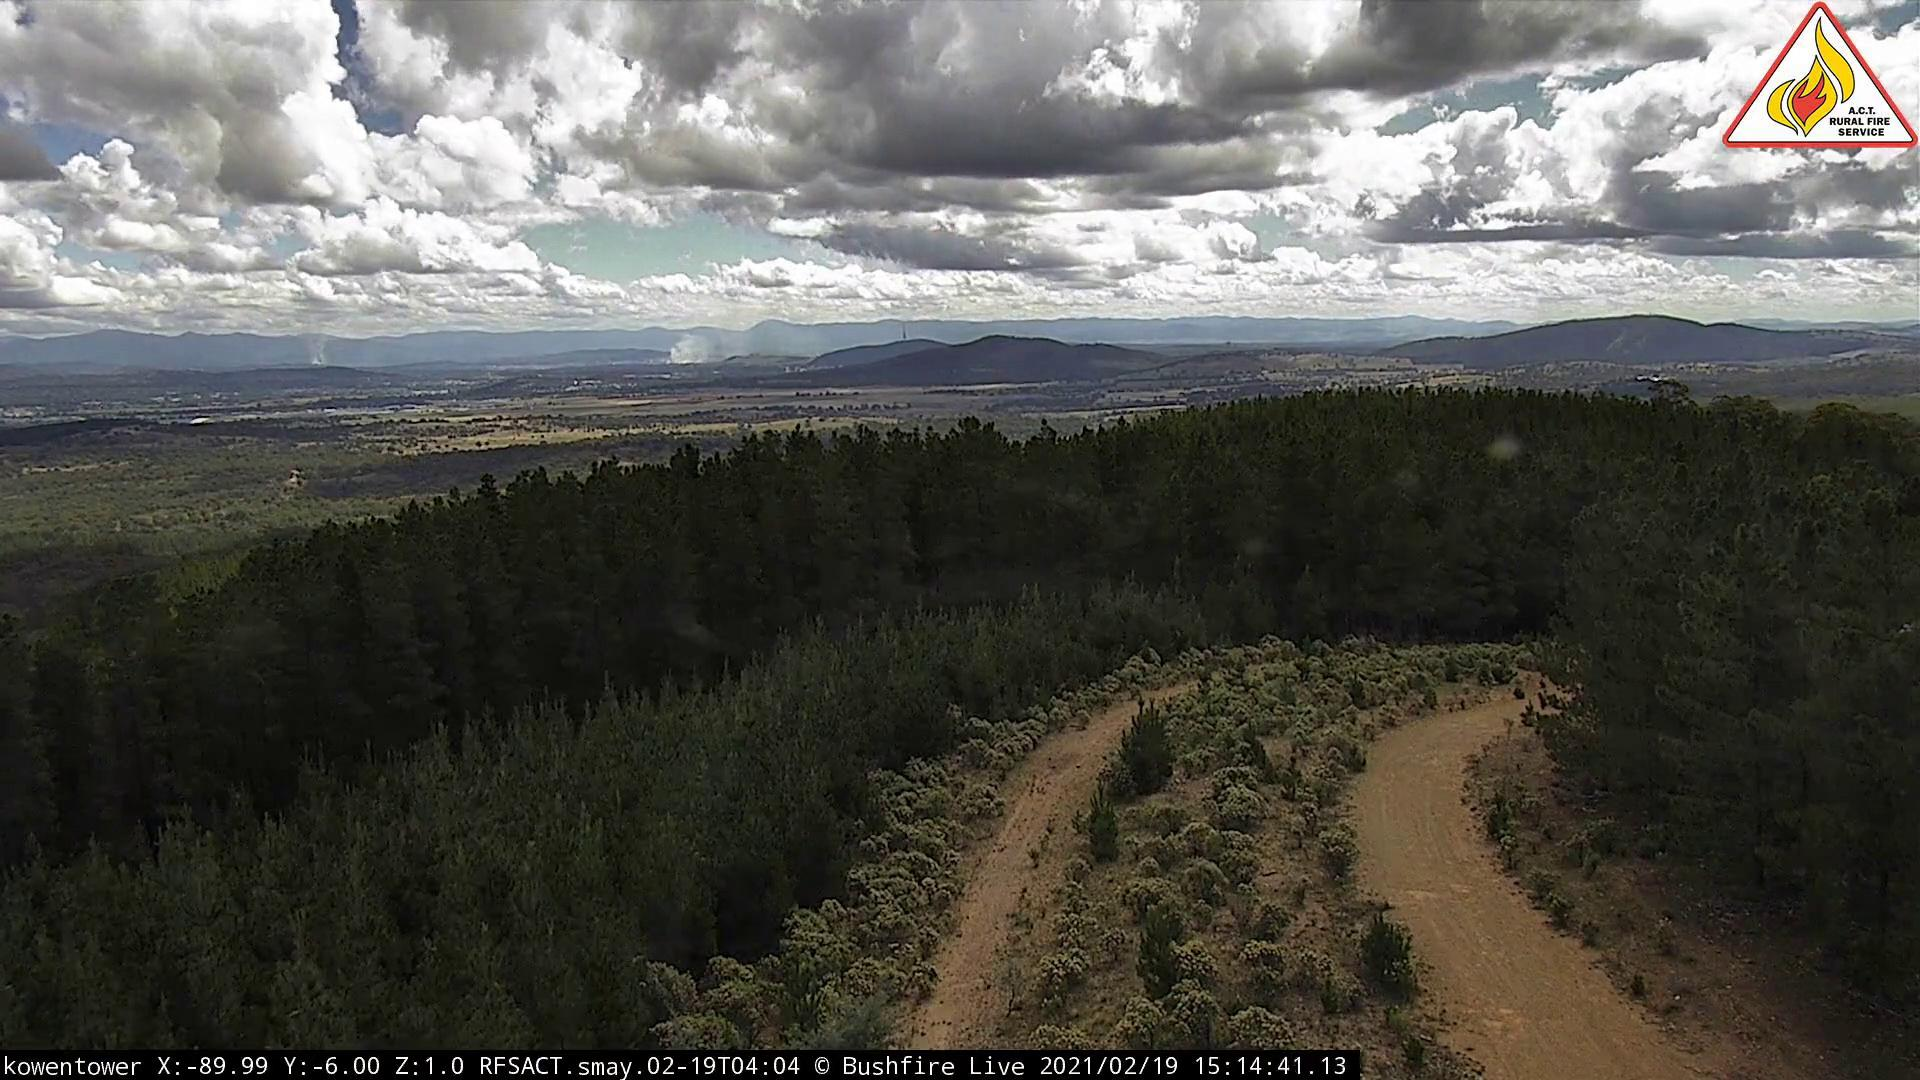Smoke: (665, 310, 761, 371), (299, 306, 348, 375)
